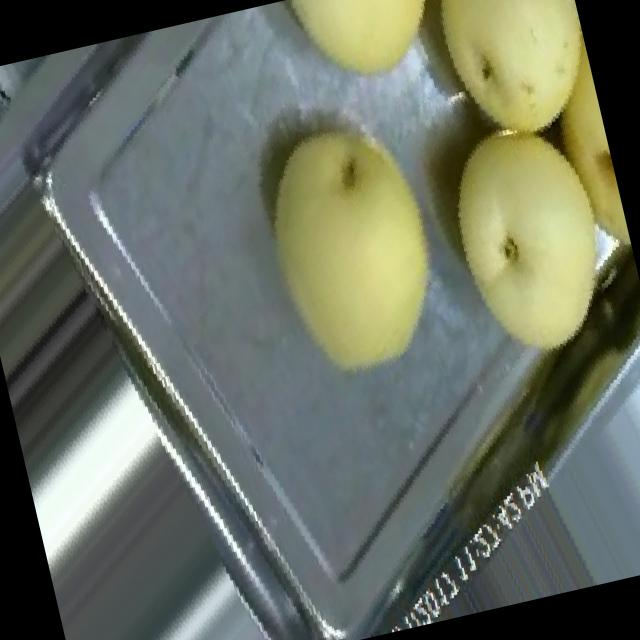Fruit: (215, 82, 490, 411), (407, 86, 640, 388), (388, 0, 610, 196), (263, 0, 462, 115)
